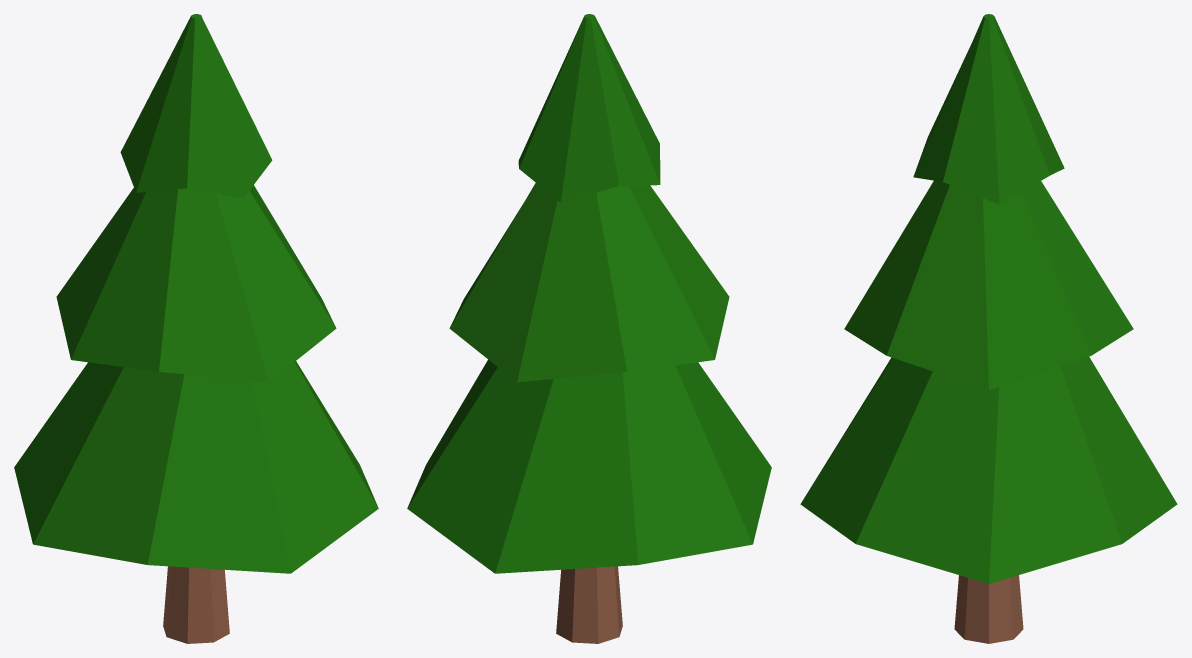
The model's file is M_Tree_01 (1).fbx.
3 views of the same model, side by side, from view 1: azimuth 30°, elevation 25°; view 2: azimuth 150°, elevation 25°; view 3: azimuth 270°, elevation 25° (orthographic).
Parts seen in each view (by area): view 1: Cylinder.020, Cylinder.003; view 2: Cylinder.020, Cylinder.003; view 3: Cylinder.020, Cylinder.003.
Boxes of the visible parts, x1=… form: Cylinder.020: x1=14, y1=14, x2=378, y2=573; Cylinder.003: x1=163, y1=566, x2=229, y2=643; Cylinder.020: x1=407, y1=14, x2=771, y2=573; Cylinder.003: x1=556, y1=566, x2=622, y2=643; Cylinder.020: x1=800, y1=14, x2=1177, y2=583; Cylinder.003: x1=954, y1=575, x2=1023, y2=643.
Bounding box in the file's own units: 316 × 567 × 316.
